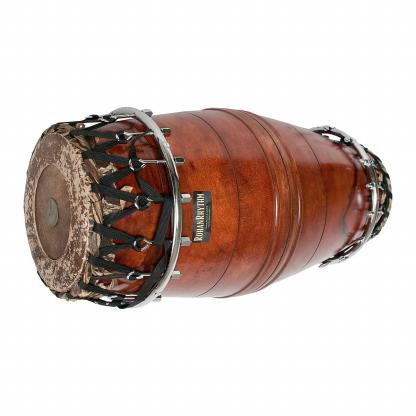Mridangam: (21, 101, 402, 310)
